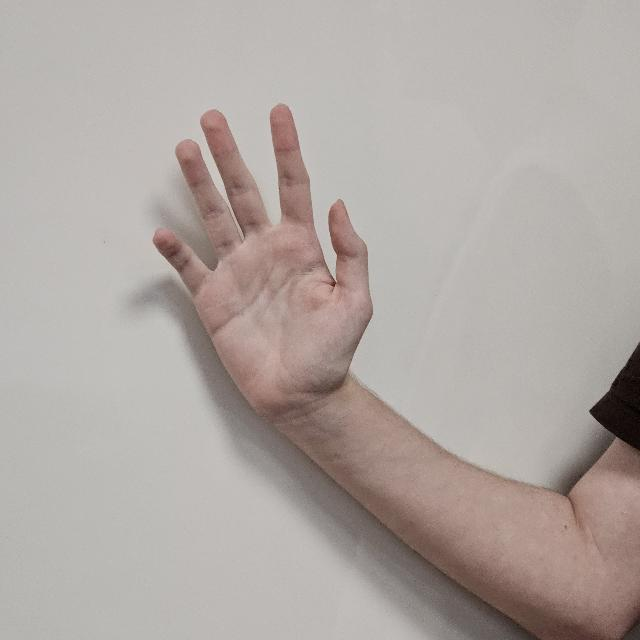X: (146, 106, 382, 432)
